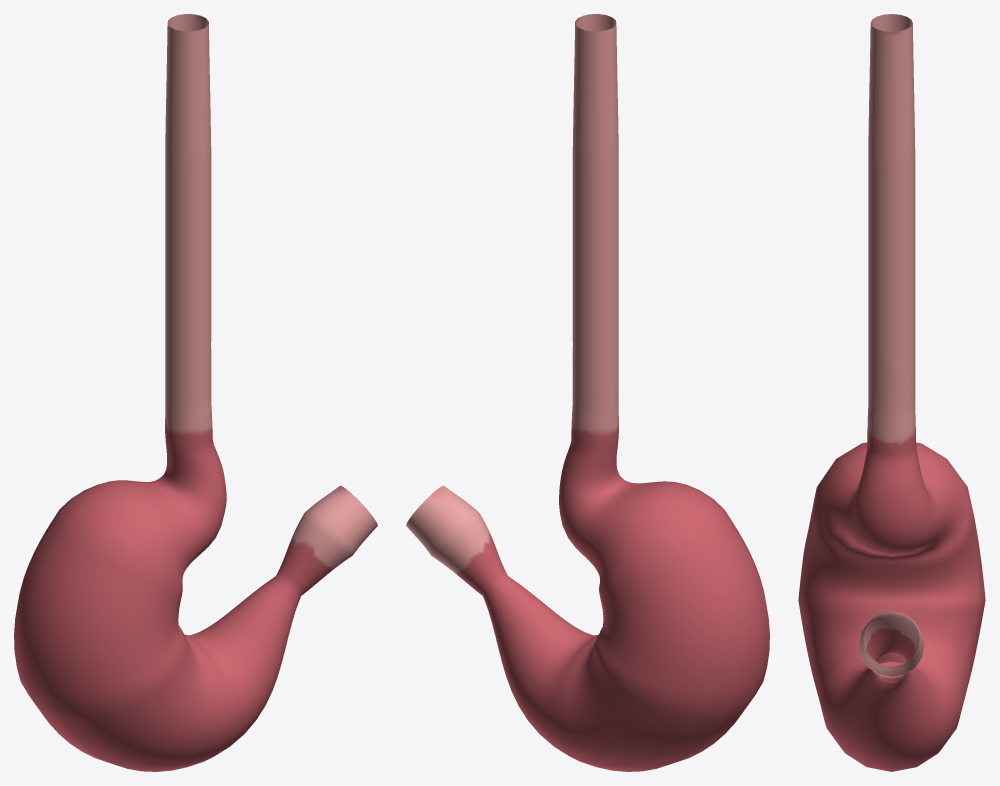
The model's file is tracto_superior.glb.
3 renders of one model, left to right at view 1: azimuth 30°, elevation 25°; view 2: azimuth 150°, elevation 25°; view 3: azimuth 270°, elevation 25°, orthographic.
Parts seen in each view (by area): view 1: tracto_superior; view 2: tracto_superior; view 3: tracto_superior.
Part boxes in pixels (<box>): tracto_superior: <box>14,14,377,771</box>; tracto_superior: <box>406,14,769,771</box>; tracto_superior: <box>798,14,985,771</box>.
Size of the model in its own units: 17.29 by 35.05 by 7.98.
1 material, 1 textured.
